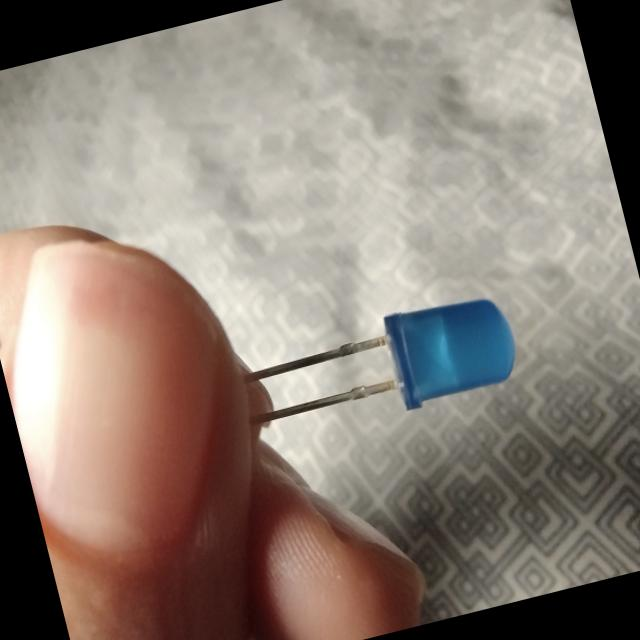blue_led: (379, 284, 525, 412)
